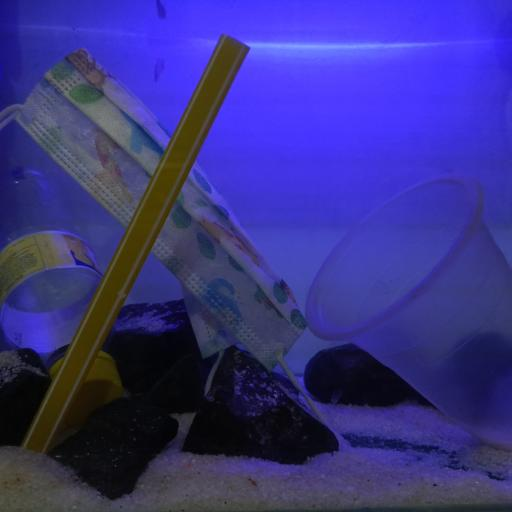bottle_cap: (47, 360, 123, 416)
mask: (6, 46, 309, 374)
plastic_bottle: (0, 164, 126, 427)
plastic_cup: (302, 170, 512, 452)
plastic_straw: (24, 34, 248, 450)
